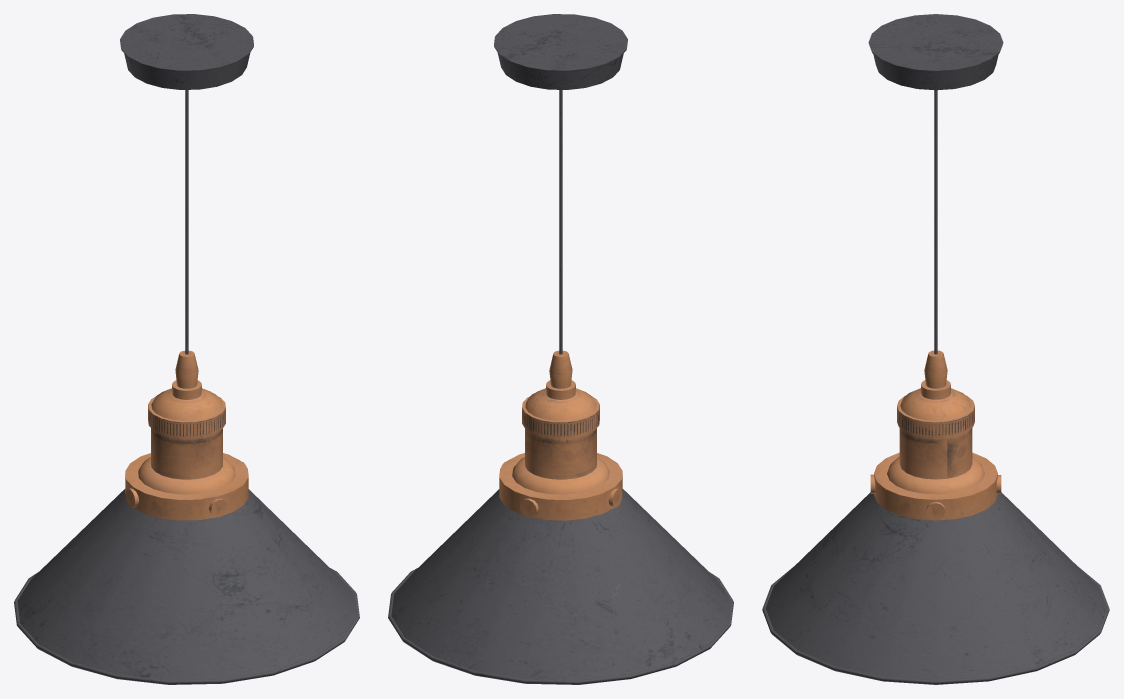
3 views of the same model, side by side, from view 1: azimuth 30°, elevation 25°; view 2: azimuth 150°, elevation 25°; view 3: azimuth 270°, elevation 25° (orthographic).
Parts seen in each view (by area): view 1: re_lamp_02; view 2: re_lamp_02; view 3: re_lamp_02.
Part boxes in pixels (<box>): re_lamp_02: <box>14,14,359,684</box>; re_lamp_02: <box>388,14,733,684</box>; re_lamp_02: <box>762,14,1109,684</box>.
Bounding box in the file's own units: 0.6662 × 1.25 × 0.6662.
Materials: 1 (1 with a texture image).
